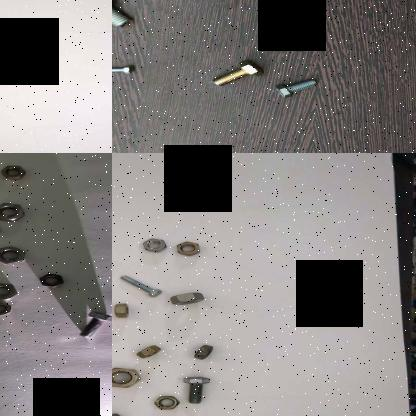Bolts: (202, 55, 272, 87), (267, 77, 323, 103), (116, 270, 166, 296), (75, 307, 112, 339), (260, 14, 312, 34), (182, 372, 212, 404), (112, 0, 143, 28), (112, 60, 138, 79)
NUTS: (166, 288, 209, 306), (112, 366, 141, 388), (189, 340, 219, 360), (0, 242, 26, 265), (0, 200, 28, 220), (174, 238, 202, 258), (0, 162, 30, 180), (130, 344, 166, 359), (152, 392, 180, 410), (0, 280, 22, 300), (38, 272, 67, 286), (113, 298, 133, 318), (140, 237, 168, 251), (0, 300, 18, 314)
